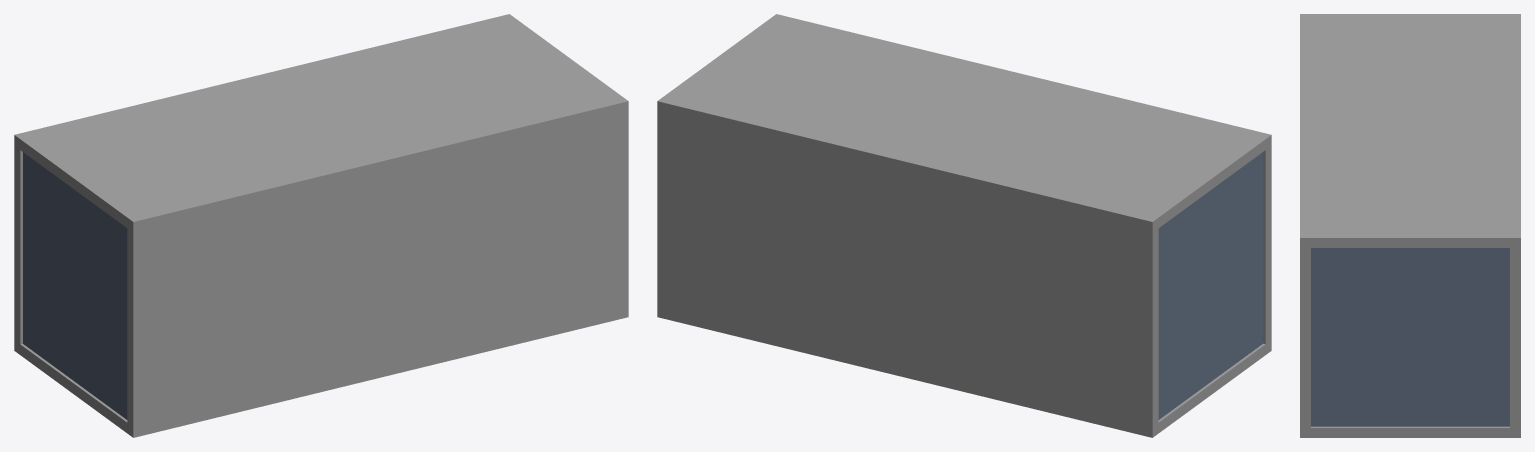
3 views of the same model, side by side, from view 1: azimuth 30°, elevation 25°; view 2: azimuth 150°, elevation 25°; view 3: azimuth 270°, elevation 25° (orthographic). The views are drawn at different scales.
Visible parts, largest first — view 1: group_0, instance_7, instance_6, instance_9, instance_8; view 2: group_0, instance_6, instance_7, instance_8, instance_9; view 3: group_0, instance_3.001, instance_5.001, instance_2.001, instance_4.001.
Part boxes in pixels (left/top/right/bottom): group_0: left=14, top=14, right=628, bottom=437; instance_7: left=76, top=191, right=103, bottom=402; instance_6: left=49, top=172, right=76, bottom=382; instance_9: left=23, top=152, right=49, bottom=362; instance_8: left=103, top=211, right=127, bottom=419; group_0: left=657, top=14, right=1271, bottom=437; instance_6: left=1182, top=191, right=1209, bottom=402; instance_7: left=1209, top=172, right=1236, bottom=382; instance_8: left=1236, top=152, right=1262, bottom=362; instance_9: left=1158, top=211, right=1182, bottom=419; group_0: left=1300, top=14, right=1520, bottom=437; instance_3.001: left=1410, top=248, right=1460, bottom=426; instance_5.001: left=1360, top=248, right=1410, bottom=426; instance_2.001: left=1311, top=248, right=1360, bottom=426; instance_4.001: left=1460, top=248, right=1509, bottom=426.
Bounding box in the file's own units: 19.2 × 8 × 8.
